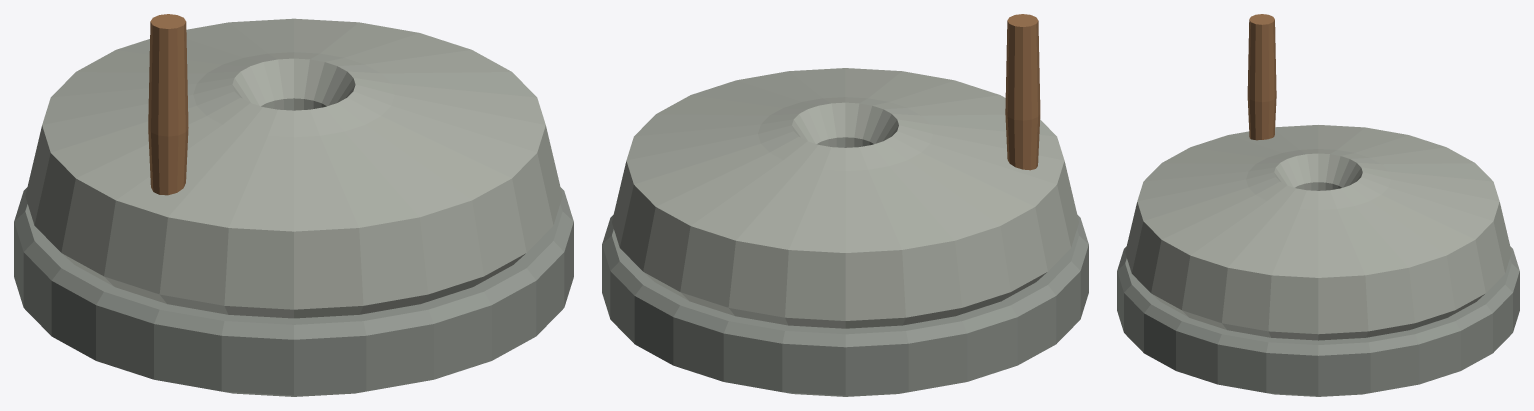
The picture shows the model from 3 angles, left to right: view 1: azimuth 30°, elevation 25°; view 2: azimuth 150°, elevation 25°; view 3: azimuth 270°, elevation 25°; orthographic projection. The views are drawn at different scales.
Visible parts, largest first — view 1: WholeAnnularUpperQuernStone, WholeBroadLowerQuernStone, WholeOffsetUprightWoodGrip; view 2: WholeAnnularUpperQuernStone, WholeBroadLowerQuernStone, WholeOffsetUprightWoodGrip; view 3: WholeAnnularUpperQuernStone, WholeBroadLowerQuernStone, WholeOffsetUprightWoodGrip.
Boxes of the visible parts, left/top/right/bottom form: WholeAnnularUpperQuernStone: left=25, top=18, right=562, bottom=318; WholeBroadLowerQuernStone: left=14, top=187, right=573, bottom=396; WholeOffsetUprightWoodGrip: left=148, top=14, right=188, bottom=195; WholeAnnularUpperQuernStone: left=612, top=68, right=1078, bottom=328; WholeBroadLowerQuernStone: left=602, top=215, right=1088, bottom=396; WholeOffsetUprightWoodGrip: left=1005, top=14, right=1040, bottom=170; WholeAnnularUpperQuernStone: left=1125, top=125, right=1511, bottom=340; WholeBroadLowerQuernStone: left=1117, top=246, right=1519, bottom=396; WholeOffsetUprightWoodGrip: left=1247, top=14, right=1276, bottom=140.
Bounding box in the file's own units: 0.5 × 0.34 × 0.5.
